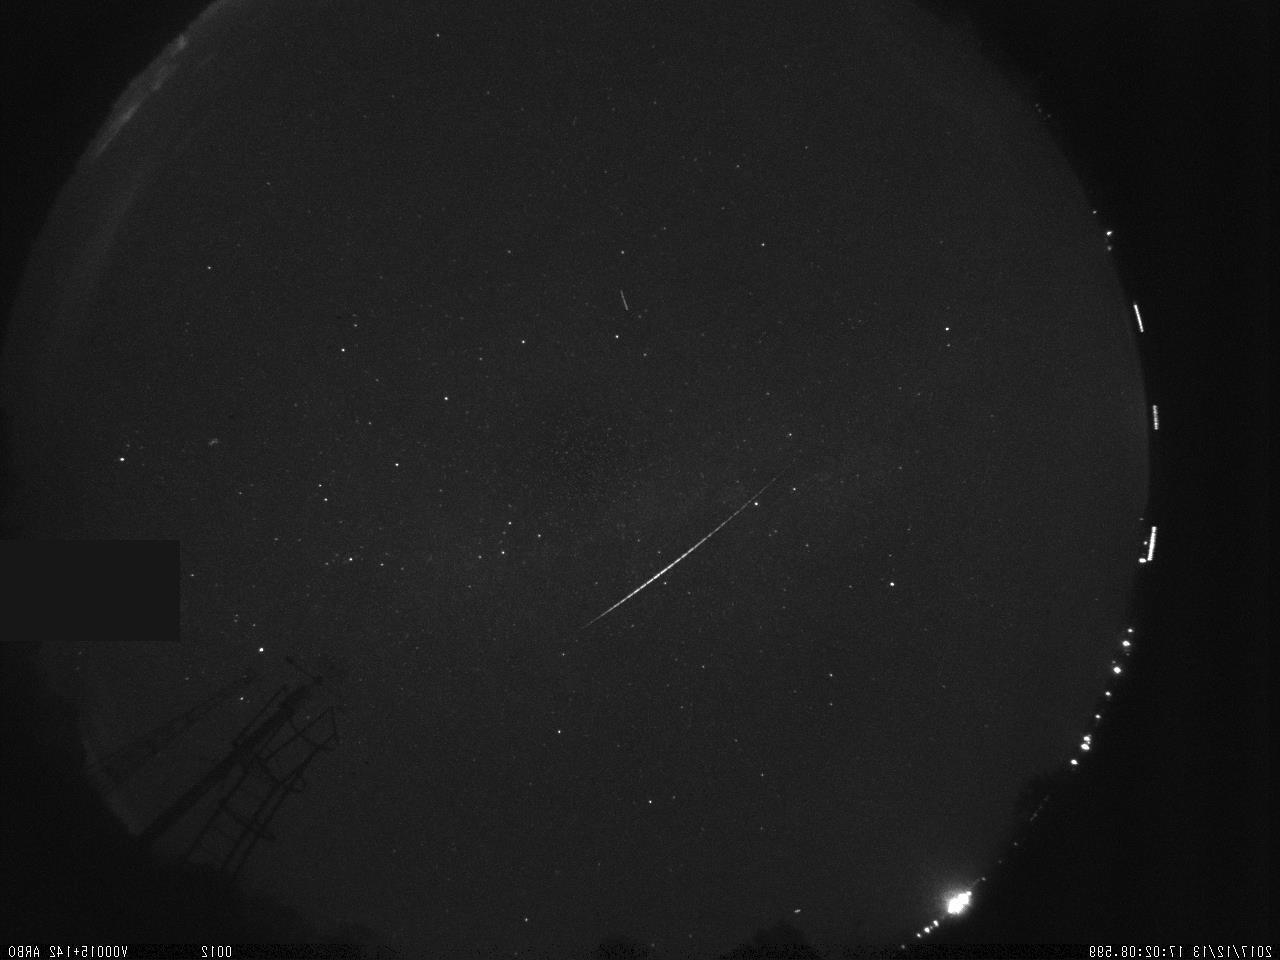meteor: (540, 458, 816, 678)
